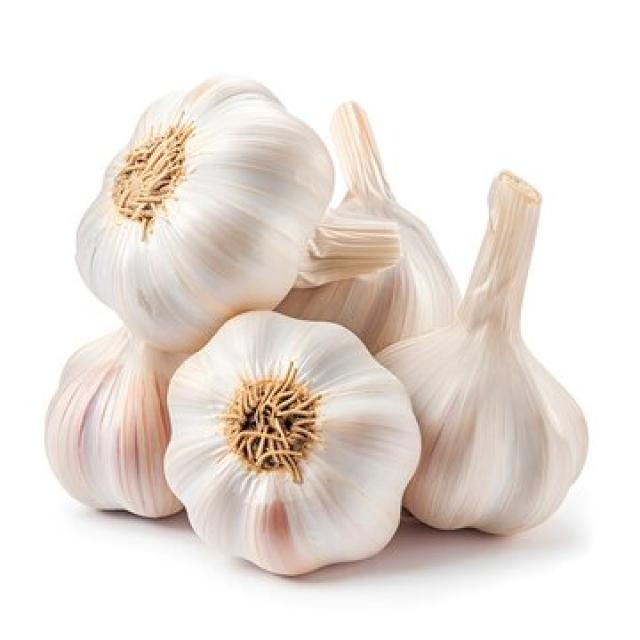Garlic: (372, 167, 588, 535), (73, 73, 334, 354), (162, 308, 421, 576), (274, 100, 460, 356), (43, 325, 188, 519)
